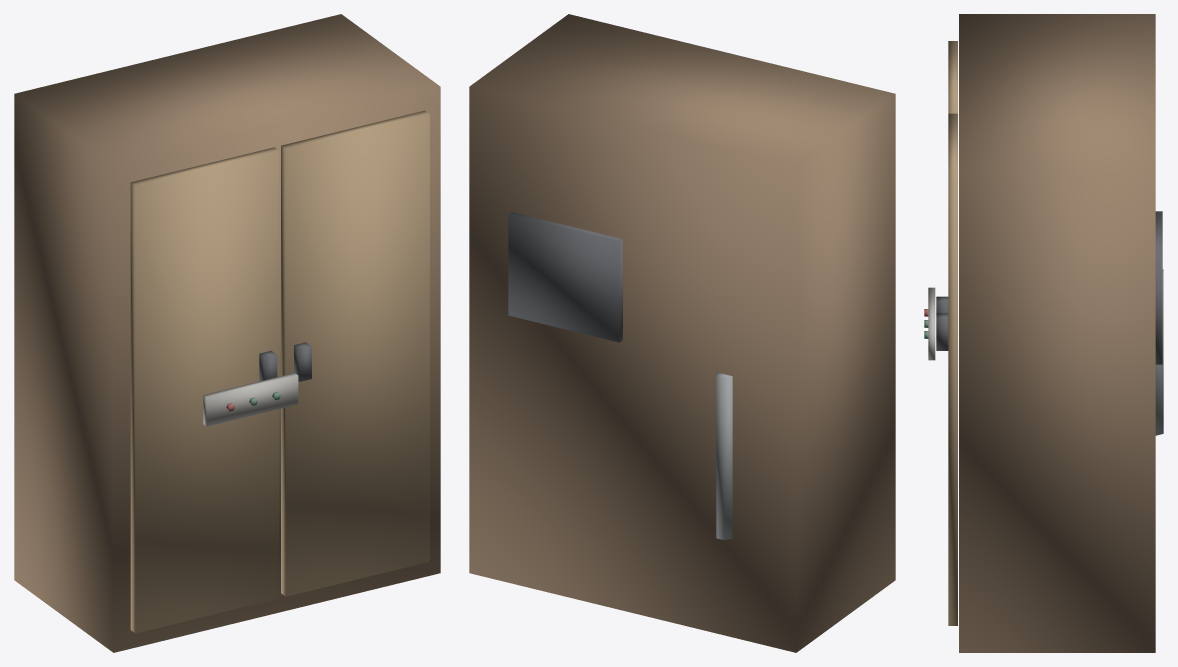
File: kitchen_base_cabinet__service.glb
3 renders of one model, left to right at view 1: azimuth 30°, elevation 25°; view 2: azimuth 150°, elevation 25°; view 3: azimuth 270°, elevation 25°, orthographic.
Visible parts, largest first — view 1: world; view 2: world; view 3: world.
Part boxes in pixels (bbox=[...]): world: bbox=[14, 14, 440, 652]; world: bbox=[469, 14, 895, 652]; world: bbox=[924, 14, 1163, 652].
Size of the model in its own units: 0.95 by 1.35 by 0.6091.
